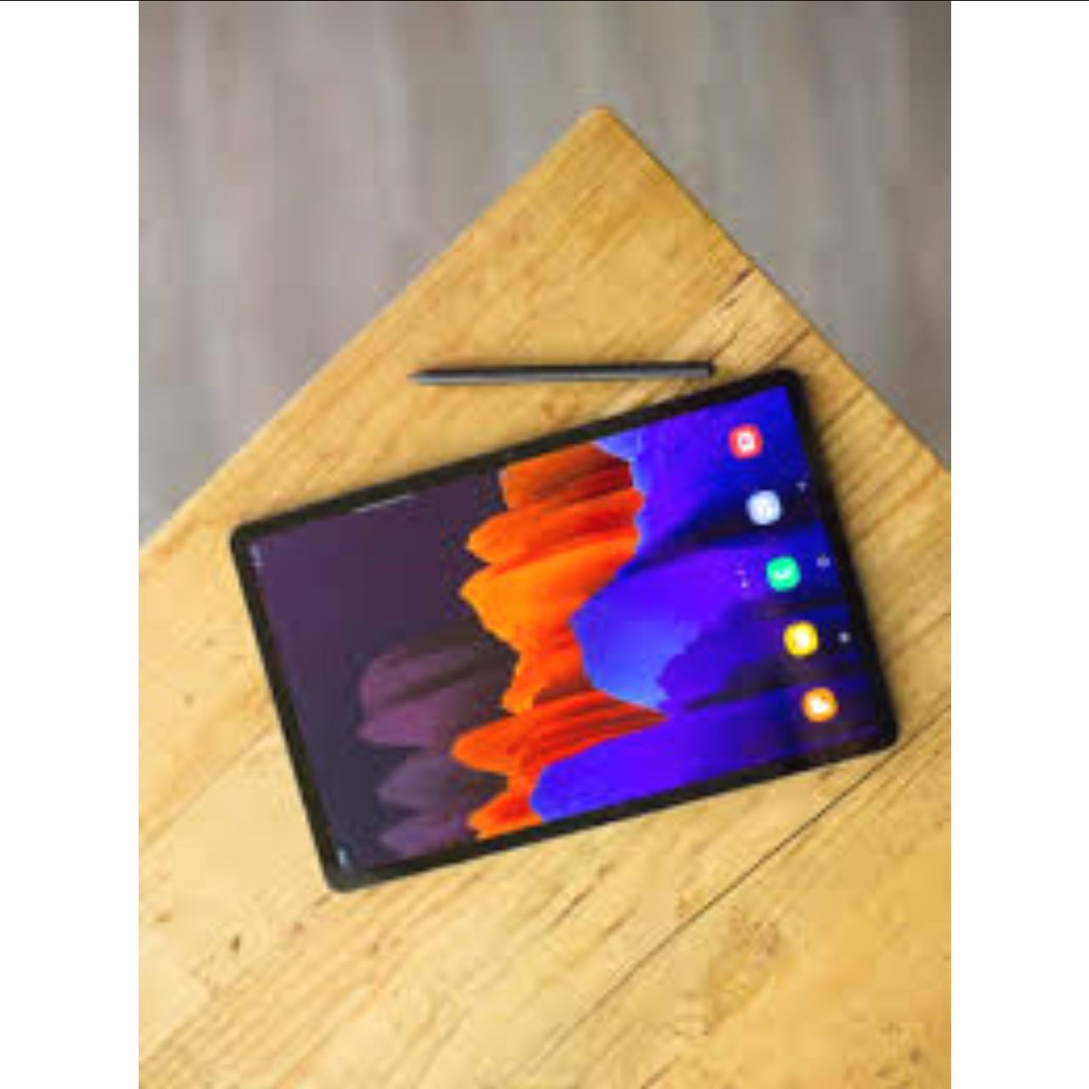Tablet_PC: (222, 359, 924, 899)
